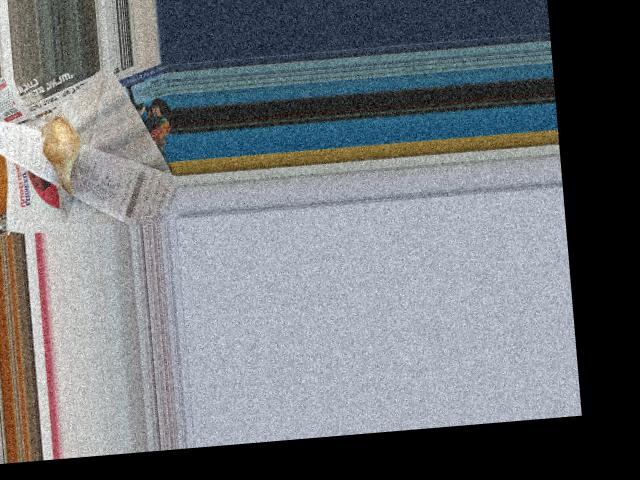onion: (42, 115, 82, 172)
